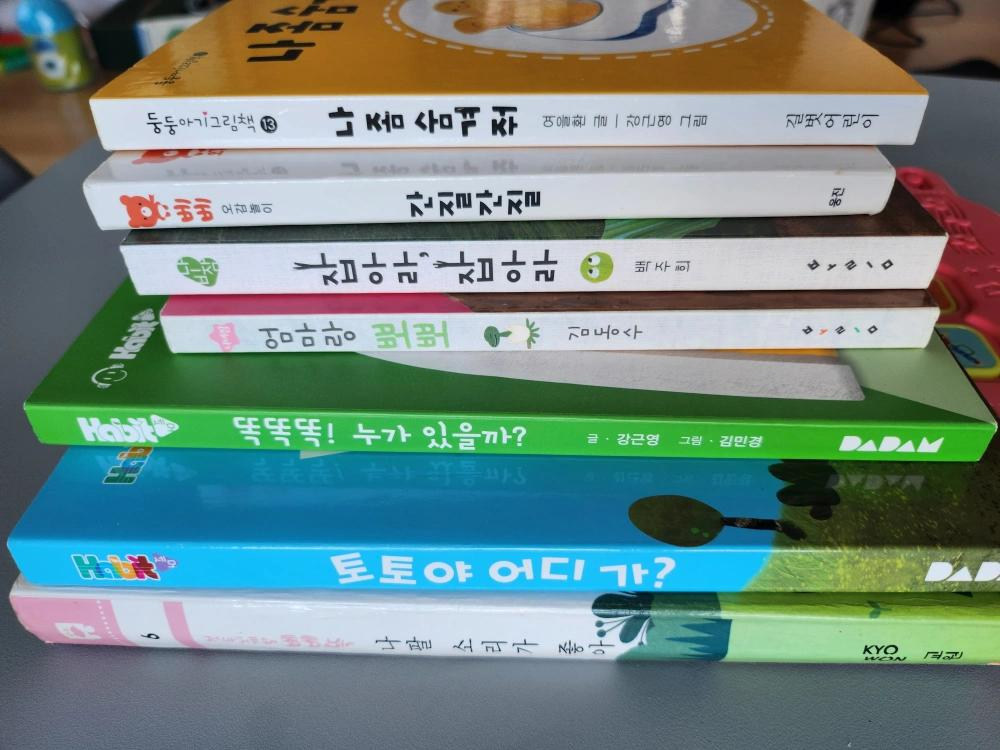book: (22, 275, 997, 461), (6, 444, 999, 594), (87, 0, 930, 151), (118, 172, 949, 295), (8, 572, 999, 665), (81, 145, 897, 231)
